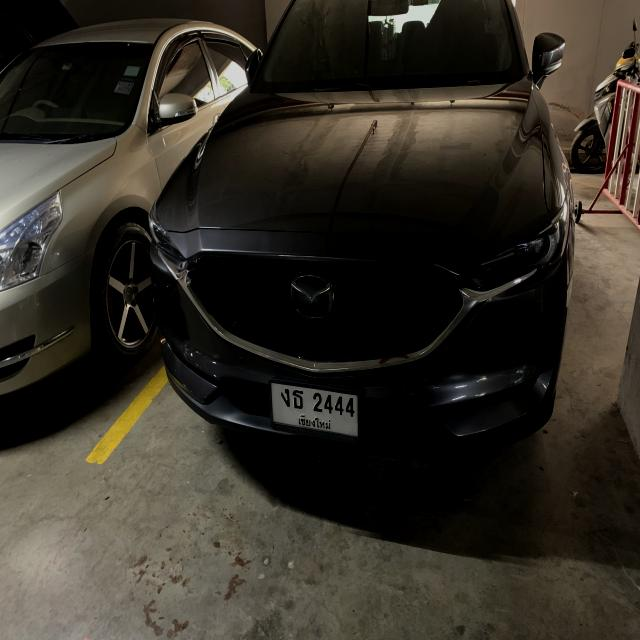license_plate: (268, 376, 362, 446)
